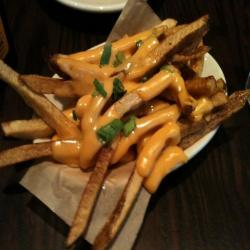fries: (34, 26, 229, 175)
